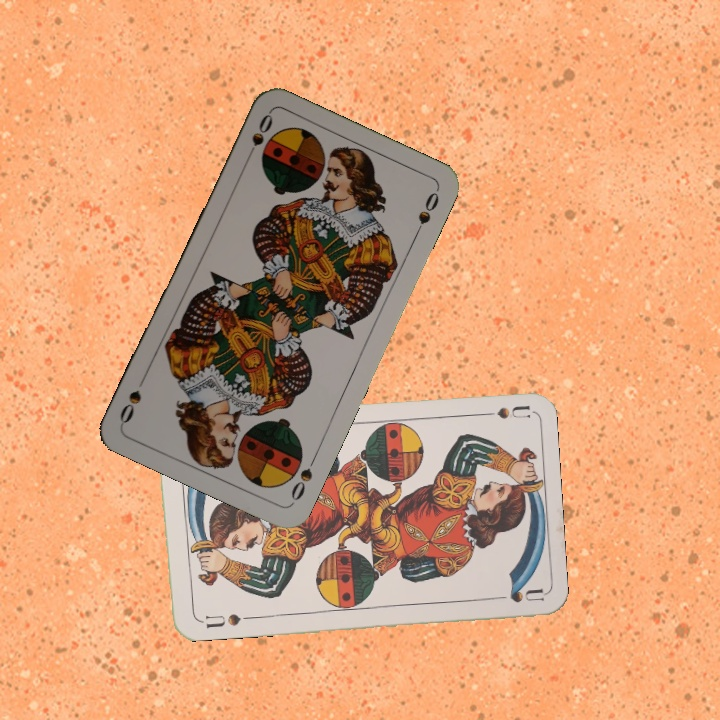SO: (241, 109, 276, 165), (286, 450, 320, 503)
SU: (471, 402, 531, 421), (202, 610, 243, 631)
